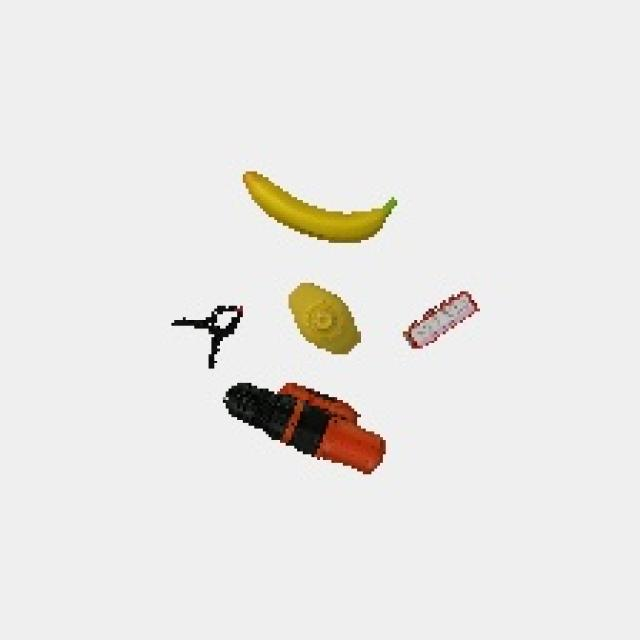Banana: (239, 165, 408, 258)
GelatinBox: (400, 288, 487, 357)
MediumClamp: (166, 297, 248, 371)
MustardBottle: (284, 278, 369, 362)
PowerDrill: (218, 378, 392, 486)
